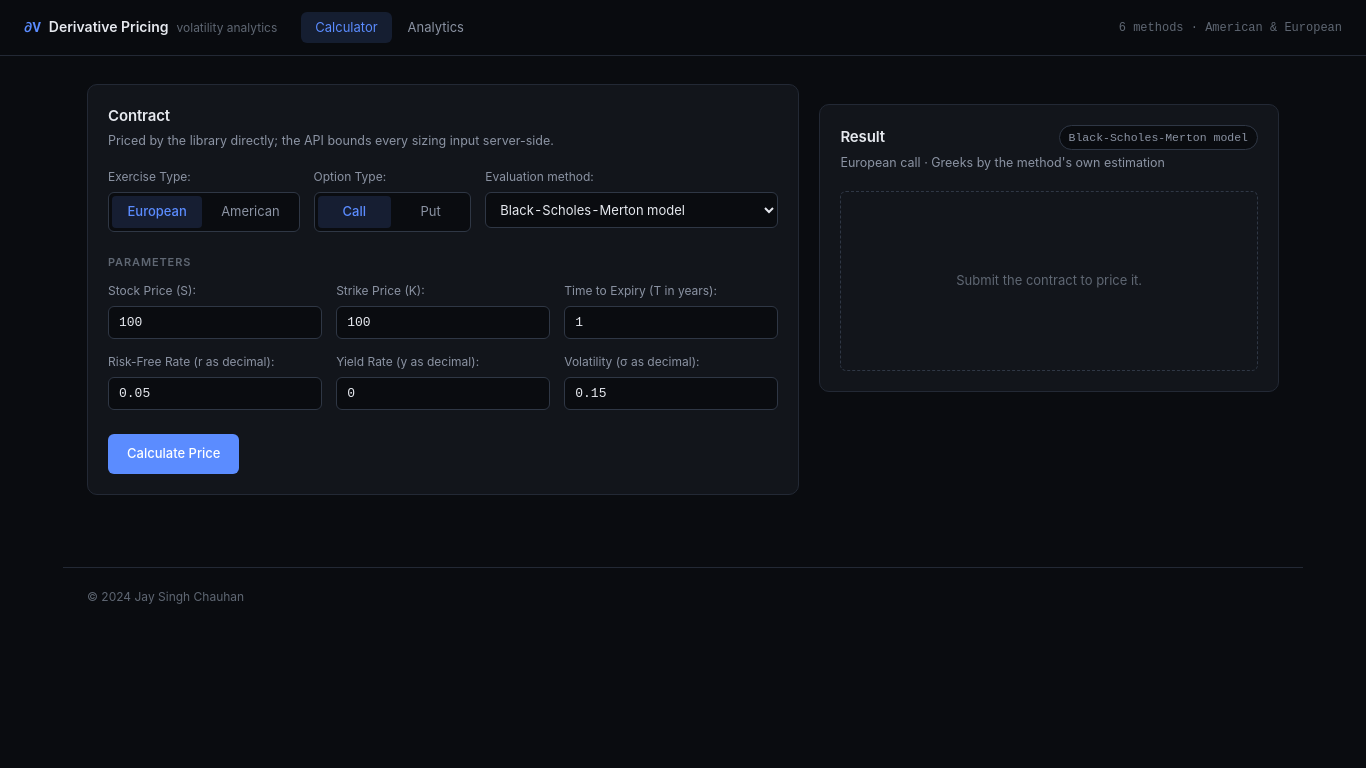
per-method field toggling › shows seed and iterations but not timestep for LSMC
Click the radio button labelled "American" at (250, 211), box [221,203,280,219]
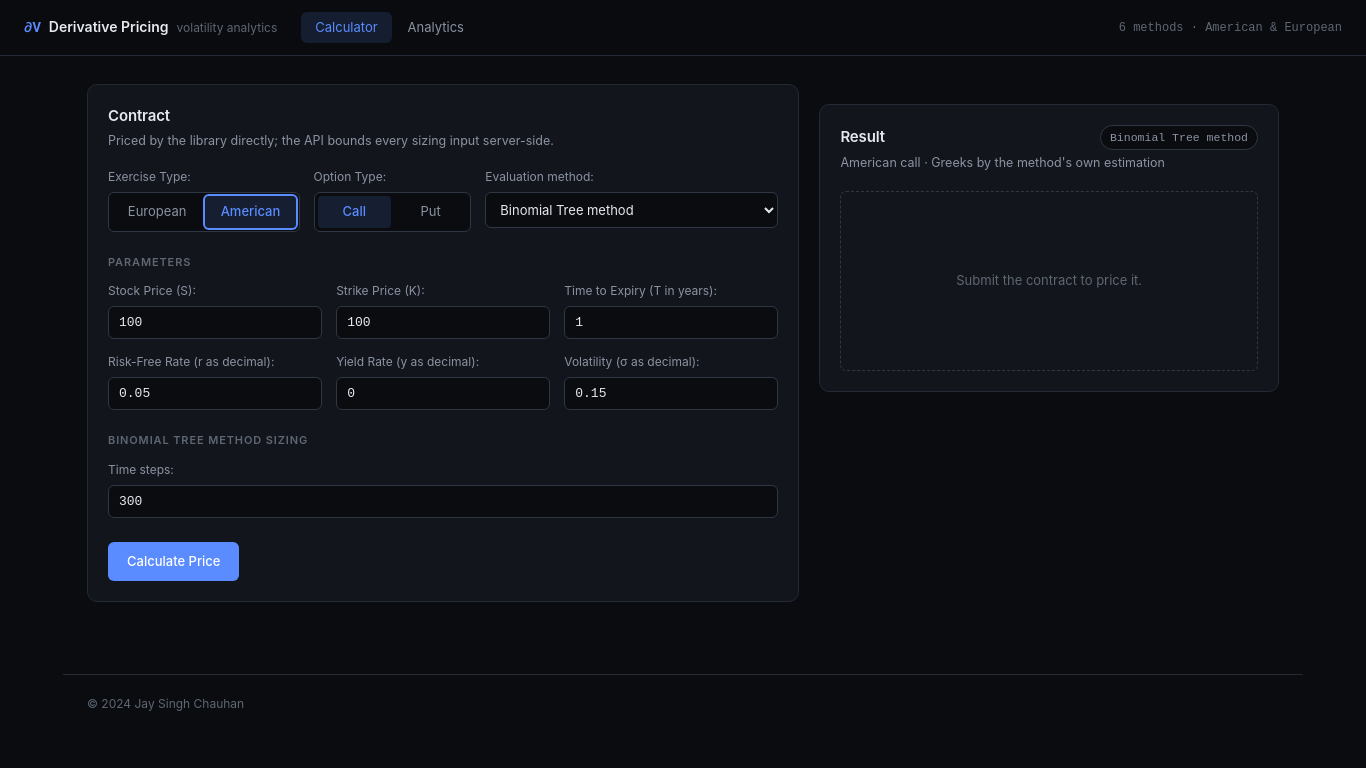
Select "Least Squares Monte Carlo simulation" in the dropdown labelled "Evaluation method:" at (632, 210), box [485,192,778,228]
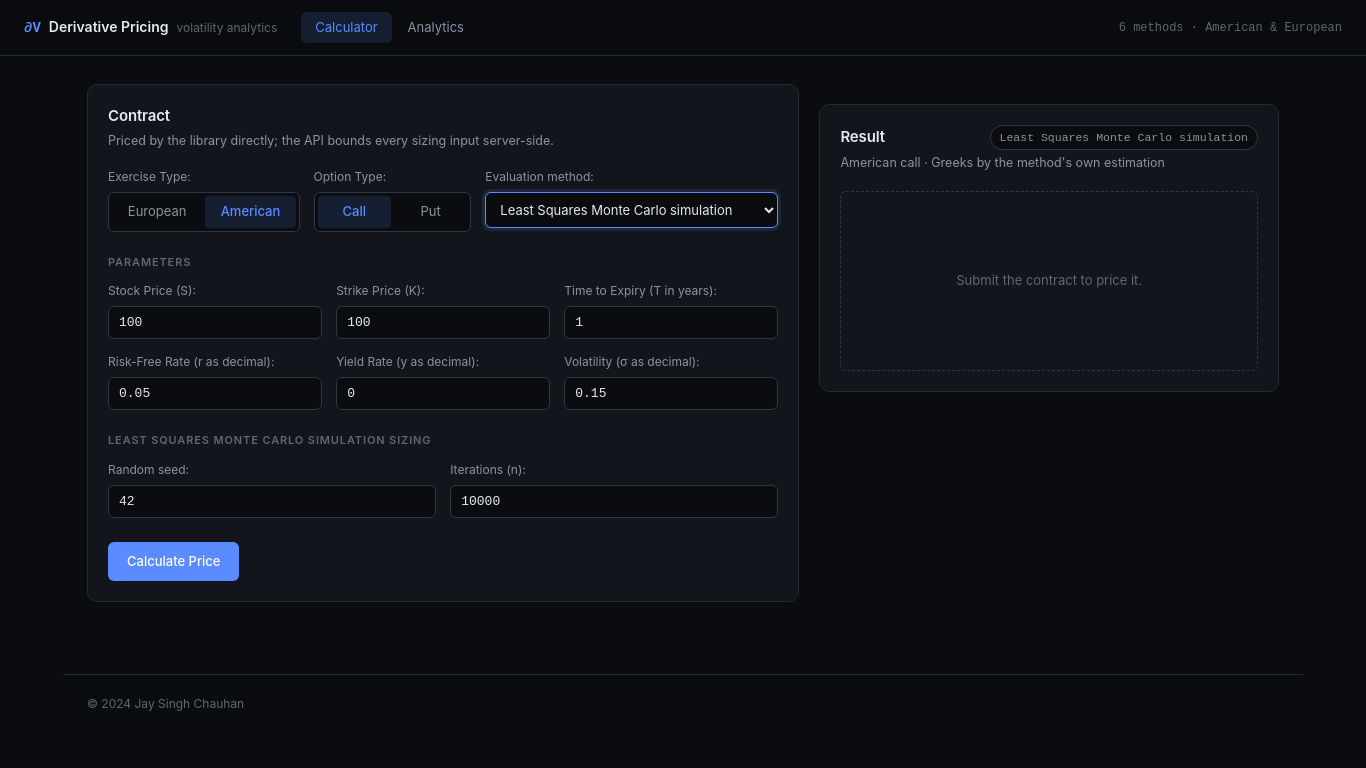
Check: the number field labelled "Random seed:" is shown, box [108,485,436,518]
Check: the number field labelled "Iterations (n):" is shown, box [450,485,778,518]
